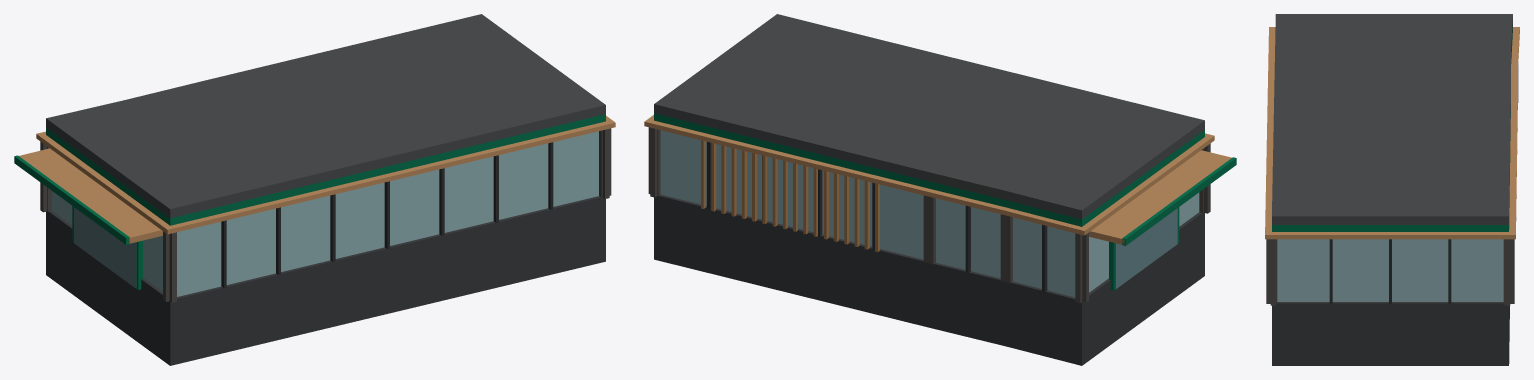
Rendered from starbucks-chongde.glb.
3 views of the same model, side by side, from view 1: azimuth 30°, elevation 25°; view 2: azimuth 150°, elevation 25°; view 3: azimuth 270°, elevation 25° (orthographic). The views are drawn at different scales.
Parts seen in each view (by area): view 1: starbucks-chongde; view 2: starbucks-chongde; view 3: starbucks-chongde.
Boxes of the visible parts, box(x1,y1,x2,y2) form: starbucks-chongde: box(14, 14, 615, 365); starbucks-chongde: box(644, 14, 1236, 365); starbucks-chongde: box(1265, 14, 1519, 365).
Bounding box in the file's own units: 27.1 × 8.5 × 13.11.
